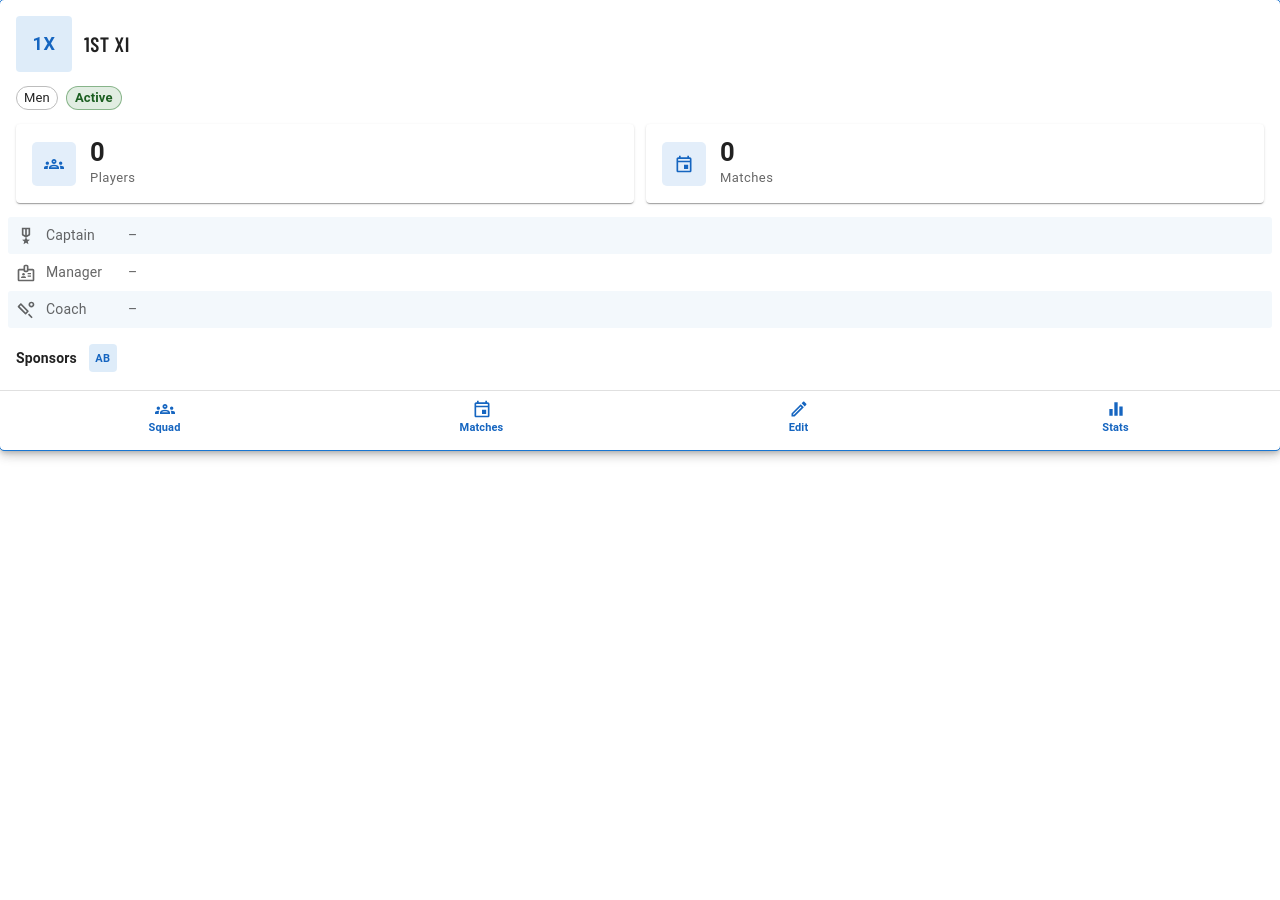
Test case: TeamCard › opens a sponsor quick-view dialog on click, listing the sponsor's own named contacts
The image size is (1280, 900).
Click the button with aria-label "Acme Bank — Sponsor" at [103, 358], box [89,344,117,372]
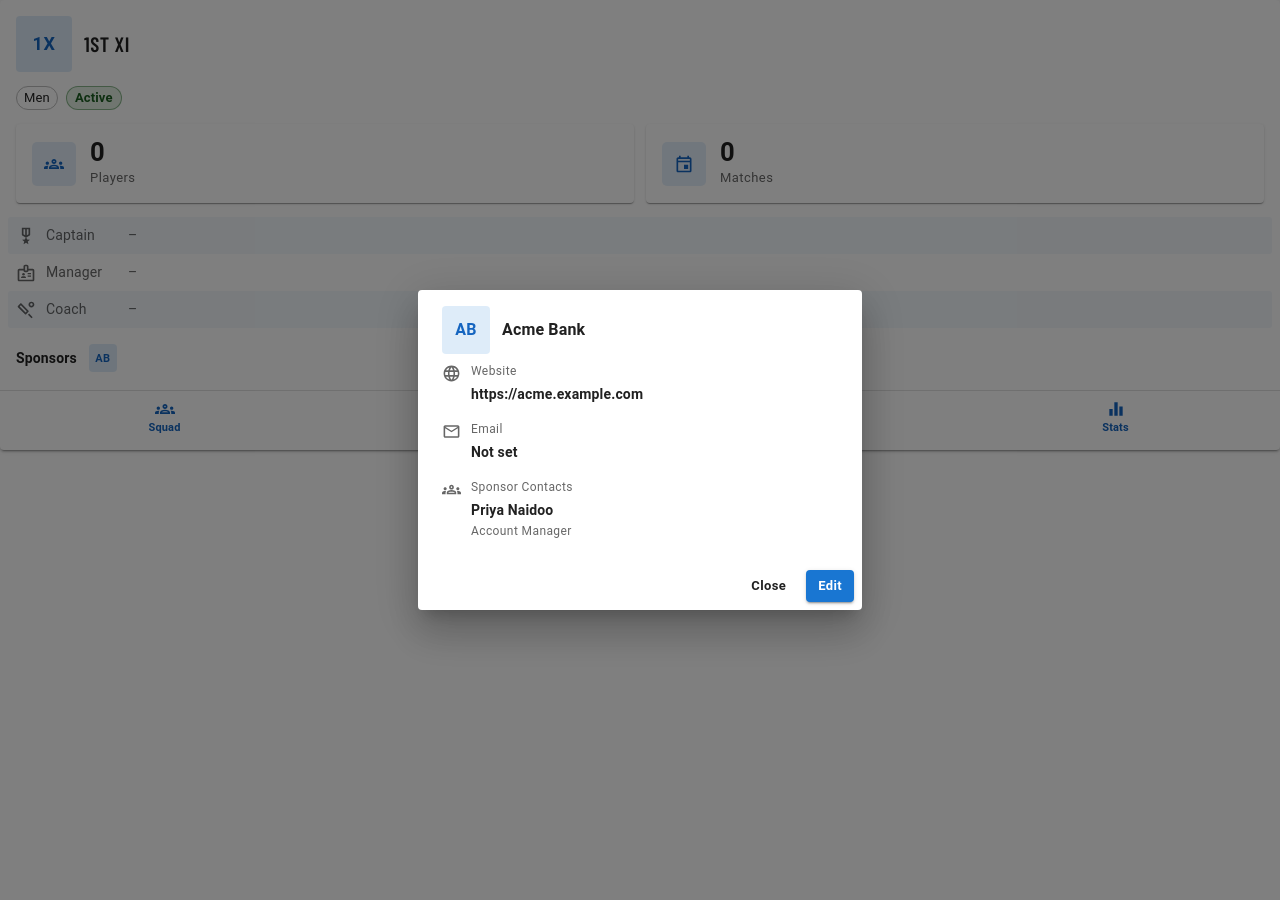
Result: the dialog is shown at [418,290,862,610]
Result: the text "https://acme.example.com" is shown at [471,384,643,404]
Result: the text "Priya Naidoo" is shown at [471,502,554,518]
